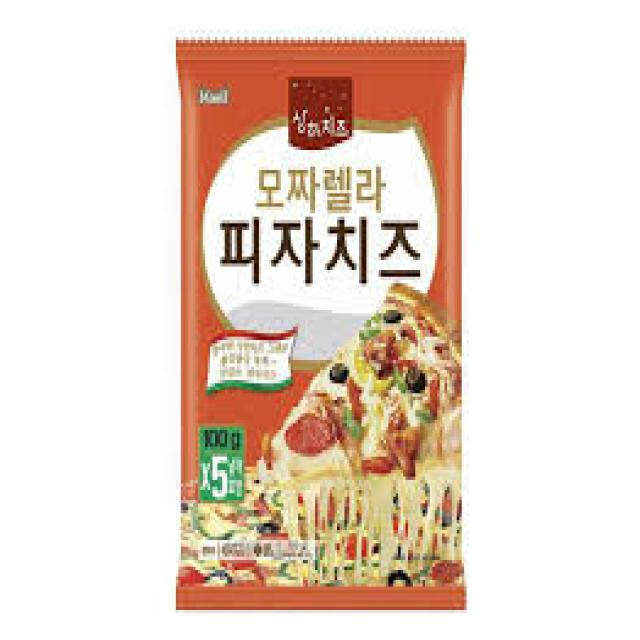cheese: (173, 41, 457, 601)
